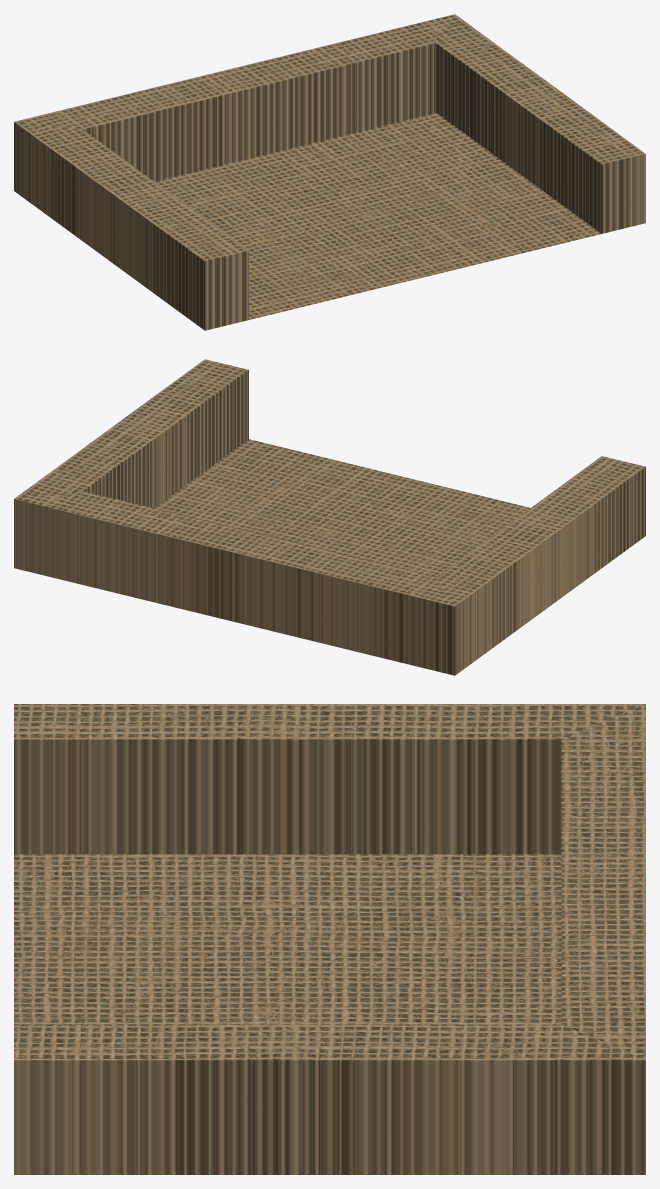
Rendered from aircraft_revetment.glb.
3 renders of one model, top to bottom at view 1: azimuth 30°, elevation 25°; view 2: azimuth 150°, elevation 25°; view 3: azimuth 270°, elevation 25°, orthographic. The views are drawn at different scales.
Visible parts, largest first — view 1: AircraftRevetment; view 2: AircraftRevetment; view 3: AircraftRevetment.
Part boxes in pixels (x1=…): AircraftRevetment: x1=14, y1=14, x2=645, y2=330; AircraftRevetment: x1=14, y1=359, x2=645, y2=675; AircraftRevetment: x1=14, y1=704, x2=645, y2=1174.
Size of the model in its own units: 20 by 3 by 15.
1 material, 1 textured.
